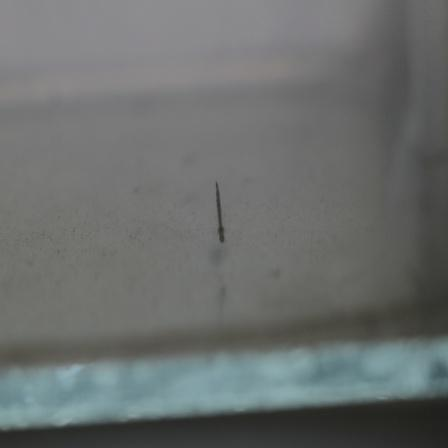Jentik-Nyamuk: (210, 179, 228, 246)
